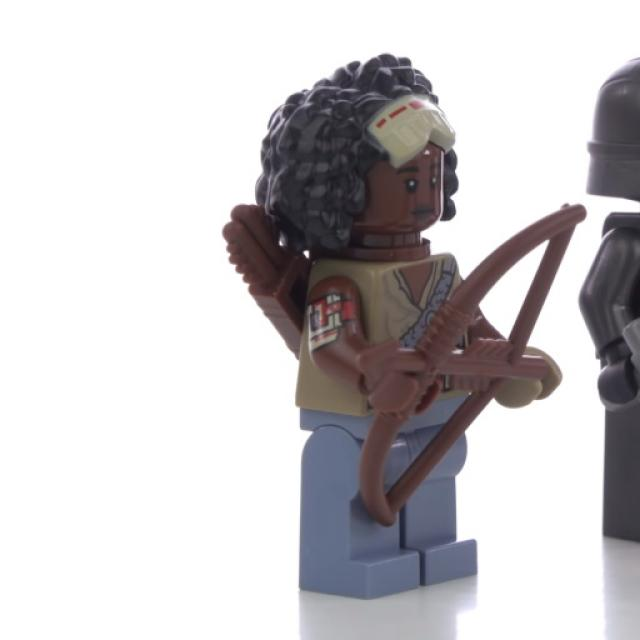Lego-Minifigures: (206, 29, 559, 610), (554, 37, 640, 585)
